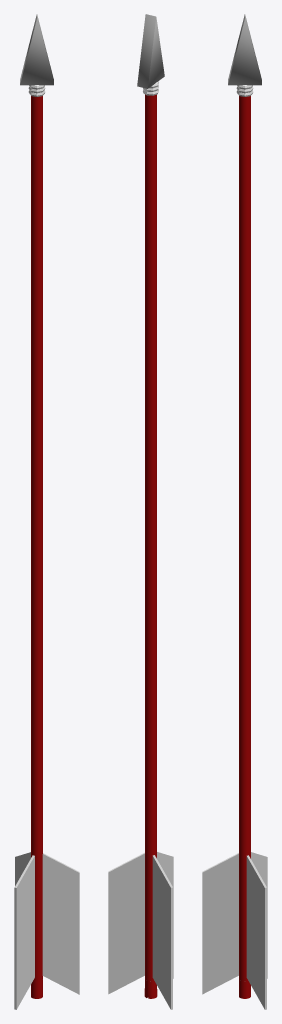
File: Arrow.fbx
3 views of the same model, side by side, from view 1: azimuth 90°, elevation 25°; view 2: azimuth 150°, elevation 25°; view 3: azimuth 270°, elevation 25° (orthographic).
Parts seen in each view (by area): view 1: Arrows:Mesh; view 2: Arrows:Mesh; view 3: Arrows:Mesh.
Part boxes in pixels (x1,y1,x2,y2): Arrows:Mesh: (14, 14, 79, 1009); Arrows:Mesh: (108, 14, 173, 1009); Arrows:Mesh: (202, 14, 267, 1009).
Bounding box in the file's own units: 6.71 × 96.97 × 5.83.
